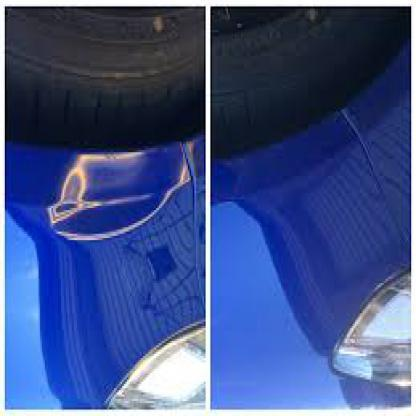dent: (31, 150, 197, 245)
